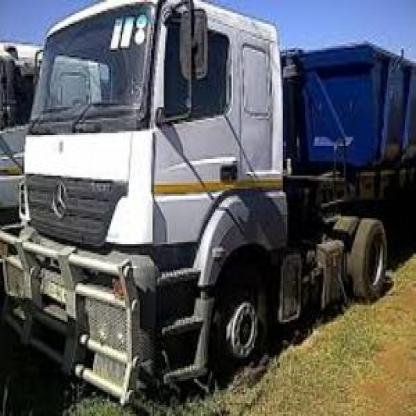dump_truck: (9, 2, 414, 399)
